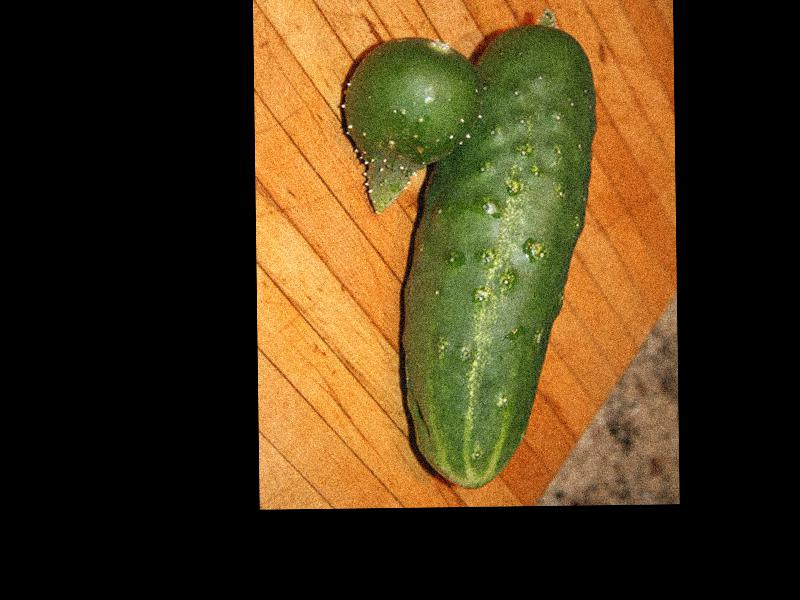Cucumber: (396, 23, 600, 490)
